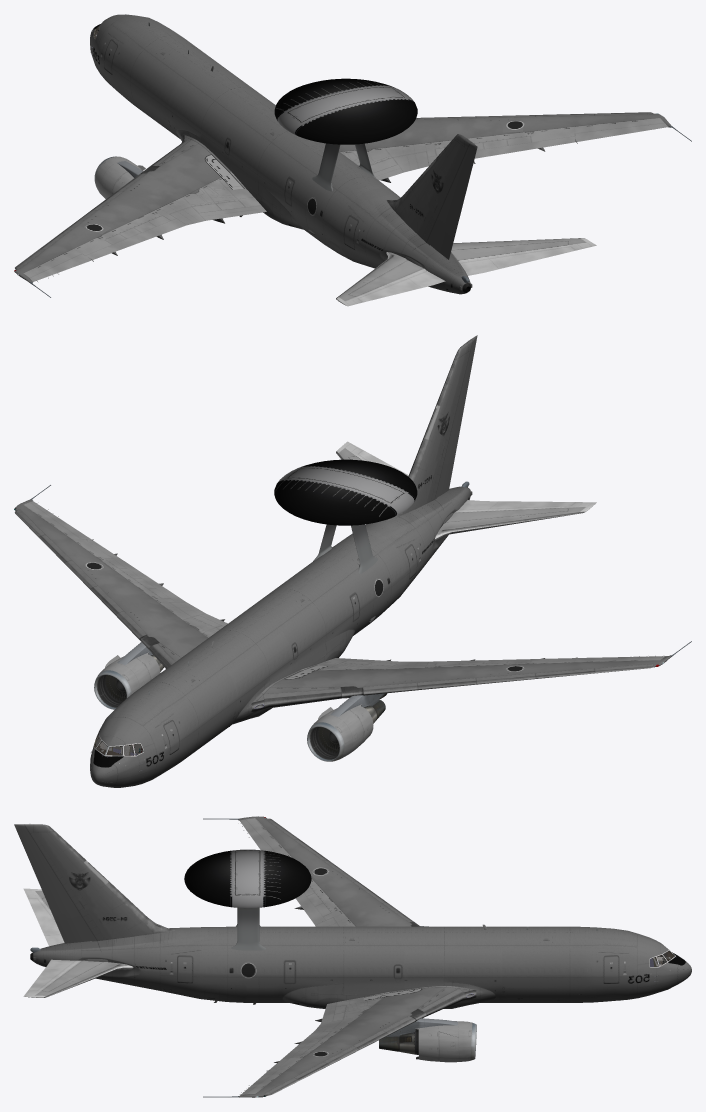
3 views of the same model, one above another, from view 1: azimuth 30°, elevation 25°; view 2: azimuth 150°, elevation 25°; view 3: azimuth 270°, elevation 25° (orthographic). The views are drawn at different scales.
Visible parts, largest first — view 1: BodyMiddle, WingLeft, BodyBack, WingRight, BodyFront, Radar, Rudder, RadarHolder+random, TrimRight, Engine1, TrimLeft; view 2: BodyMiddle, BodyFront, WingLeft, BodyBack, WingRight, Radar, Engine1, Engine2, Rudder, RadarHolder+random, TrimLeft; view 3: BodyMiddle, BodyBack, BodyFront, WingRight, WingLeft, Radar, Rudder, Engine2, RadarHolder+random, TrimLeft, ReverseThrust2, TrimRight.
Part boxes in pixels (box(x1,y1,x2,y2)): BodyMiddle: box(169, 64, 395, 259); WingLeft: box(14, 135, 266, 297); BodyBack: box(336, 134, 596, 306); WingRight: box(339, 112, 691, 182); BodyFront: box(90, 14, 225, 138); Radar: box(274, 78, 417, 144); Rudder: box(427, 142, 477, 259); RadarHolder+random: box(148, 22, 469, 282); TrimRight: box(460, 247, 575, 275); Engine1: box(94, 156, 145, 198); TrimLeft: box(358, 271, 445, 302); BodyMiddle: box(182, 530, 406, 727); BodyFront: box(90, 641, 238, 787); WingLeft: box(251, 641, 691, 711); BodyBack: box(336, 339, 596, 593); WingRight: box(14, 485, 227, 668); Radar: box(274, 459, 417, 525); Engine1: box(307, 693, 386, 761); Engine2: box(94, 642, 164, 709); Rudder: box(435, 335, 477, 497); RadarHolder+random: box(148, 481, 469, 726); TrimLeft: box(459, 500, 575, 509); BodyMiddle: box(200, 926, 500, 1008); BodyBack: box(23, 824, 199, 998); BodyFront: box(482, 924, 691, 1002); WingRight: box(203, 986, 476, 1097); WingLeft: box(203, 816, 420, 926); Radar: box(184, 849, 311, 908); Rudder: box(14, 824, 95, 943); Engine2: box(379, 1018, 476, 1062); RadarHolder+random: box(30, 907, 620, 1004); TrimLeft: box(28, 898, 64, 946); ReverseThrust2: box(415, 1025, 439, 1061); TrimRight: box(28, 959, 74, 990).
Size of the model in its own units: 13.87 by 4.41 by 14.19.
Materials: 17 (16 with a texture image).
